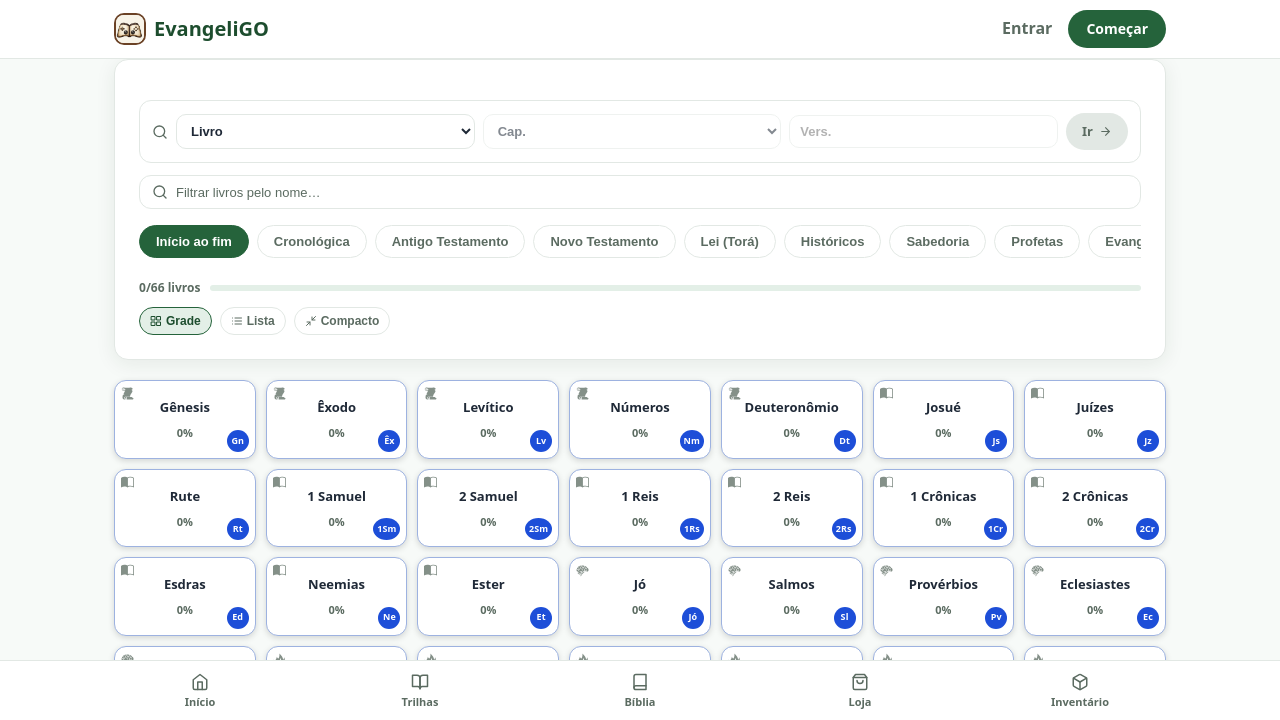
Test: LivrosPage › filtro por nome do livro › mostra uma mensagem quando nenhum livro combina com a busca
The image size is (1280, 720).
Type "zzz-nao-existe" into the search field with placeholder "Filtrar livros pelo nome…".
click(652, 192); type("zzz-nao-existe")  # box [176,185,1128,200]
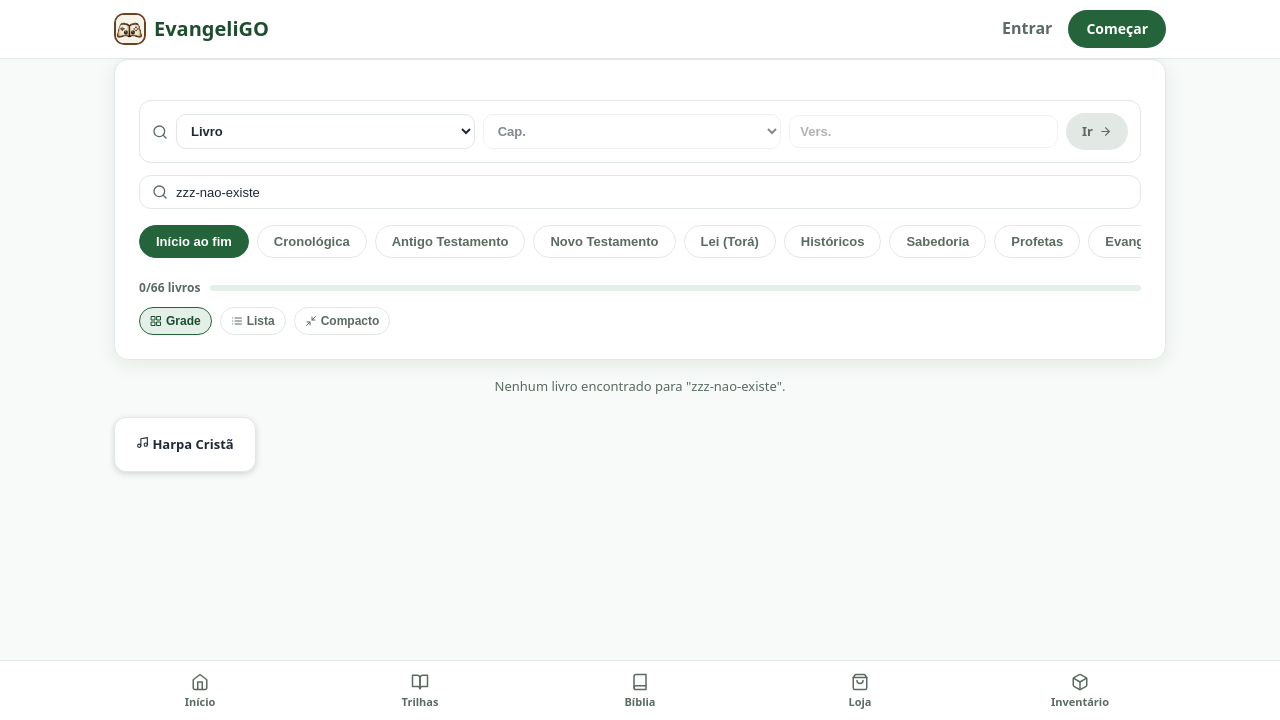
Expected: the text "Nenhum livro encontrado para \"zzz-nao-existe\"." is shown, [495,377,786,395]
